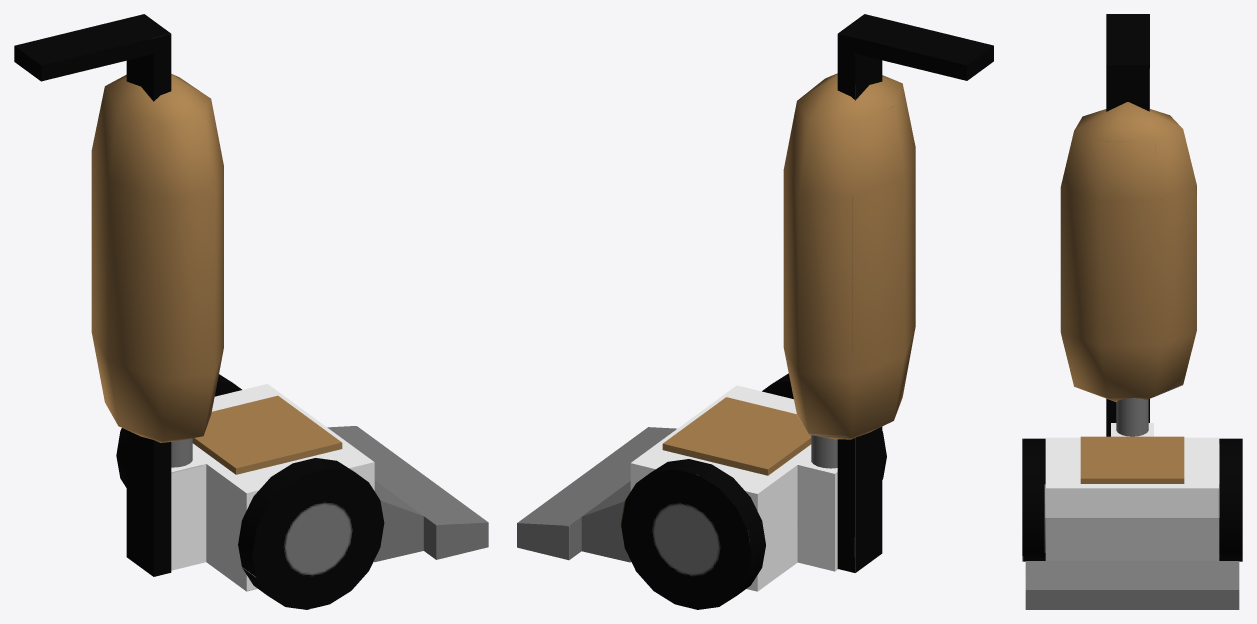
The model's file is Vacuum_cleaner_with_motor.FBX.
3 renders of one model, left to right at view 1: azimuth 30°, elevation 25°; view 2: azimuth 150°, elevation 25°; view 3: azimuth 270°, elevation 25°, orthographic. The views are drawn at different scales.
Parts seen in each view (by area): view 1: Vacuum_cleaner, Door; view 2: Vacuum_cleaner, Door; view 3: Vacuum_cleaner, Door.
Boxes of the visible parts, <box> form: Vacuum_cleaner: <box>14,14,488,609</box>; Door: <box>192,395,342,474</box>; Vacuum_cleaner: <box>517,14,993,609</box>; Door: <box>662,397,811,475</box>; Vacuum_cleaner: <box>1022,14,1242,609</box>; Door: <box>1080,436,1184,483</box>.
Size of the model in its own units: 41.4 by 55.57 by 24.52.
3 materials, 3 textured.
